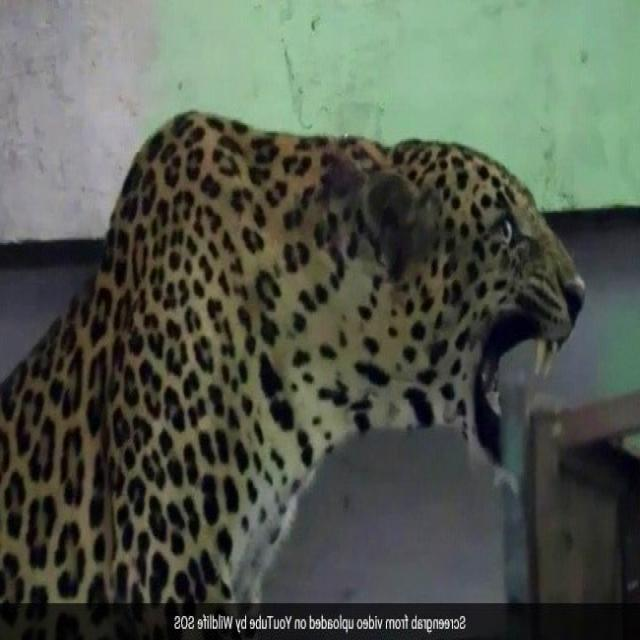leopard: (1, 112, 585, 602)
